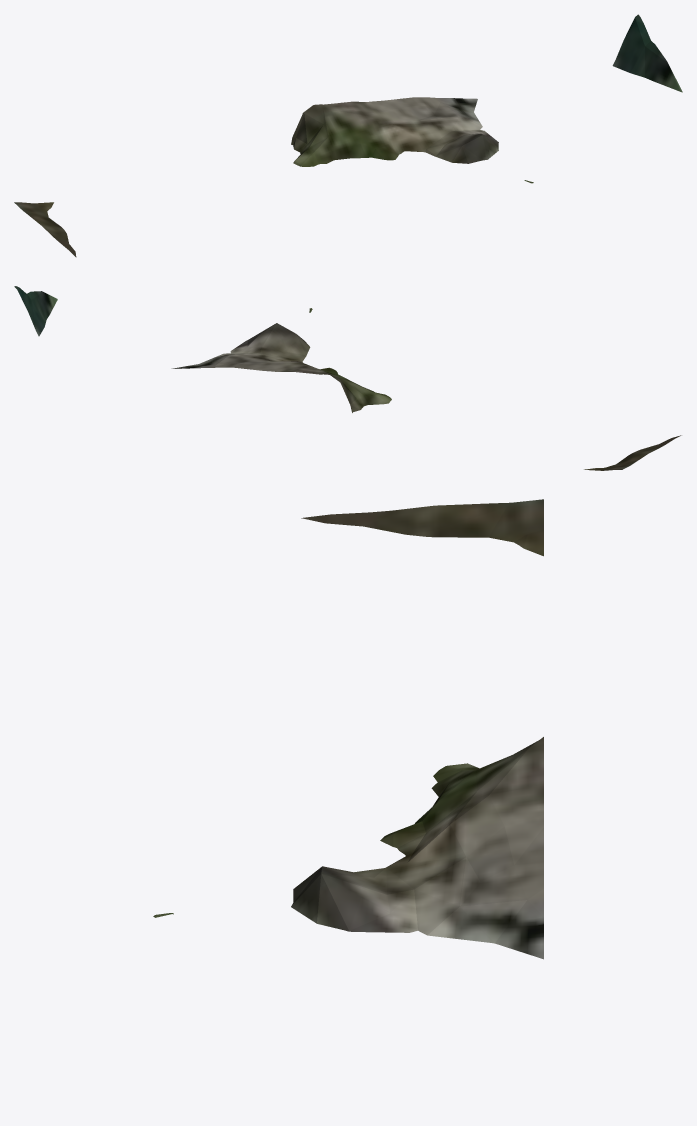
3 renders of one model, top to bottom at view 1: azimuth 30°, elevation 25°; view 2: azimuth 150°, elevation 25°; view 3: azimuth 270°, elevation 25°, orthographic. The views are drawn at different scales.
Size of the model in its own units: 0.8373 by 0.0583 by 0.233.
1 material, 1 textured.
